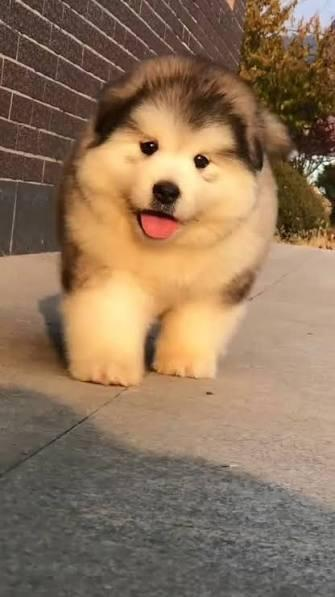puppy-dog: (55, 52, 294, 386)
